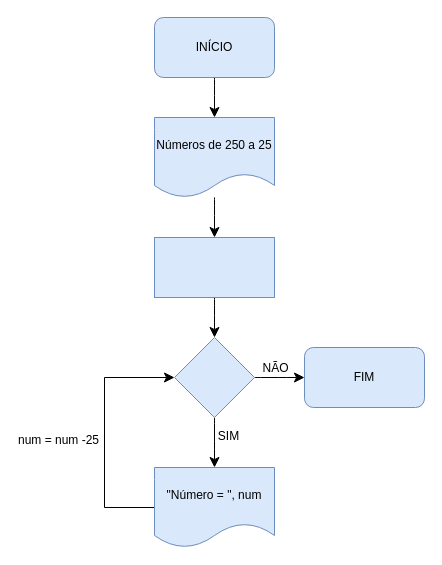
The diagram is 442 pixels wide and 565 high, and some of its shapes have lost their labels. The centre of each missing label's shape, as x and y in pixels:
"num = 250" belongs at (x=214, y=267).
"num >= 25" belongs at (x=214, y=377).
